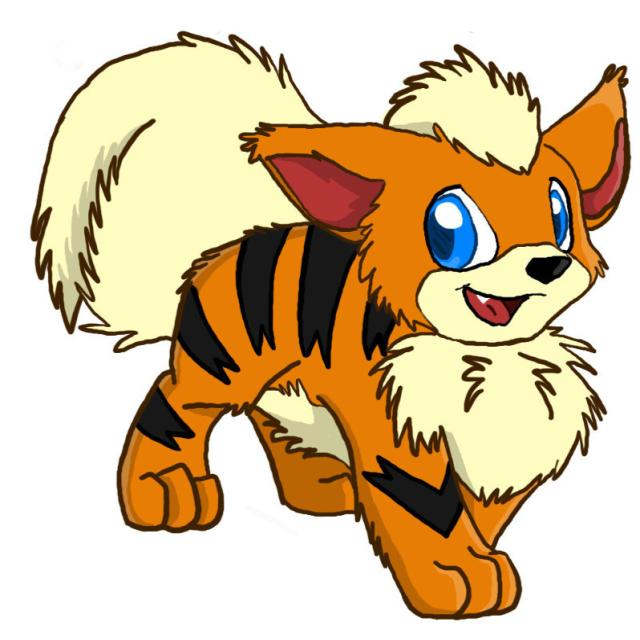Growlithe: (106, 45, 632, 591)
